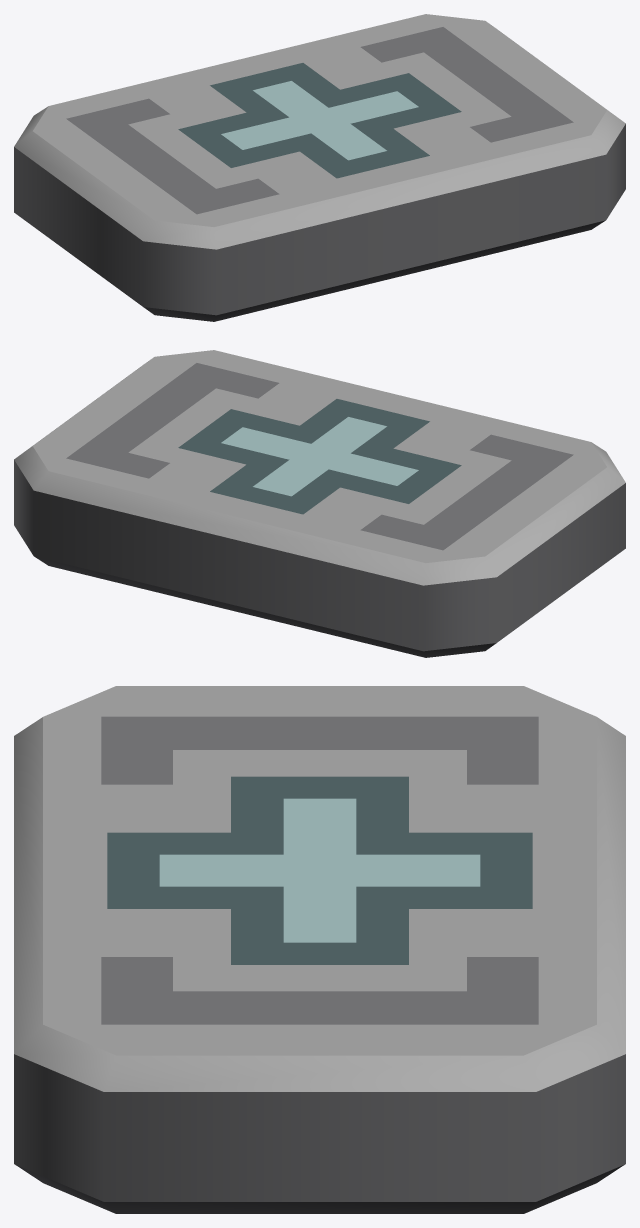
The model's file is item_medicine_ultratech_a.obj.
3 views of the same model, one above another, from view 1: azimuth 30°, elevation 25°; view 2: azimuth 150°, elevation 25°; view 3: azimuth 270°, elevation 25° (orthographic). The views are drawn at different scales.
Parts seen in each view (by area): view 1: item_medicine_ultratech_a; view 2: item_medicine_ultratech_a; view 3: item_medicine_ultratech_a.
Part boxes in pixels (left/top/right/bottom): item_medicine_ultratech_a: left=14, top=14, right=625, bottom=321; item_medicine_ultratech_a: left=14, top=350, right=625, bottom=657; item_medicine_ultratech_a: left=14, top=686, right=625, bottom=1213.
Bounding box in the file's own units: 0.7296 × 0.1368 × 0.4788.
